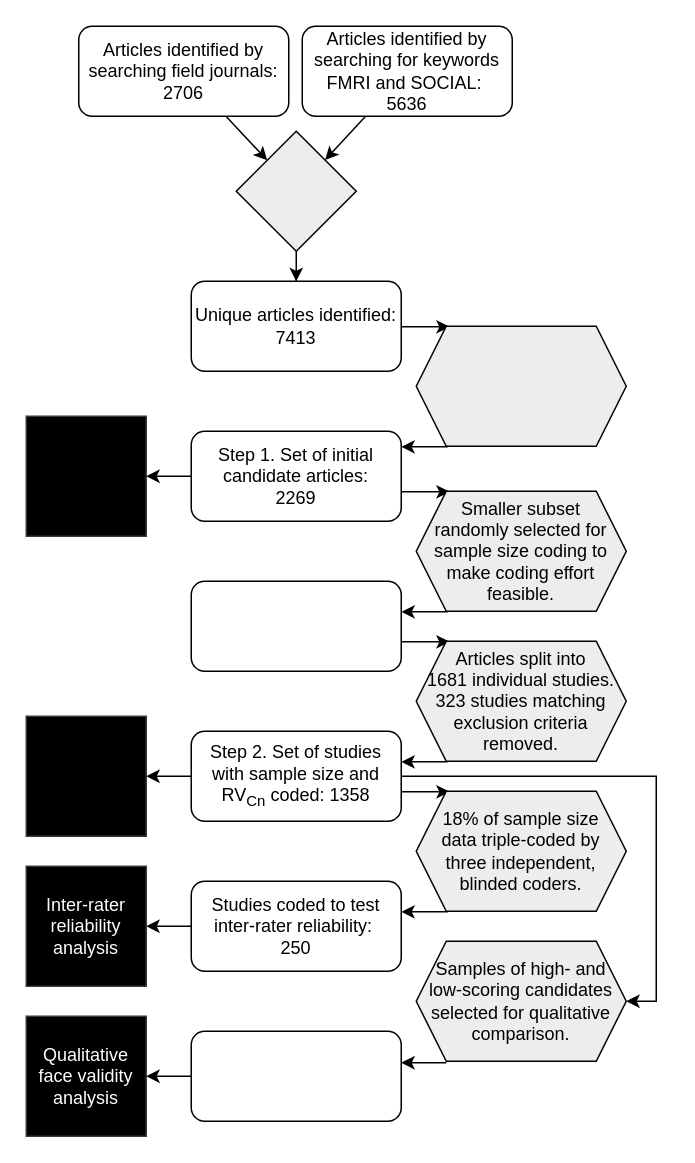
Image size: 695x1163. Some labels were removed from this diagram. Each missing label, with the box of its shape:
Articles excluded based on keyword information.: (415, 325, 626, 446)
Articles in initial set randomly selected for step 2: 1500: (190, 580, 401, 671)
Citation indicator reliability analysis: (25, 415, 146, 536)
Comparison of alternative RV Cn operationali-zations: (25, 715, 146, 836)
Remove duplicates: (235, 130, 356, 251)
Step 3. Studies subjected to detailed evaluation: 50: (190, 1030, 401, 1121)
